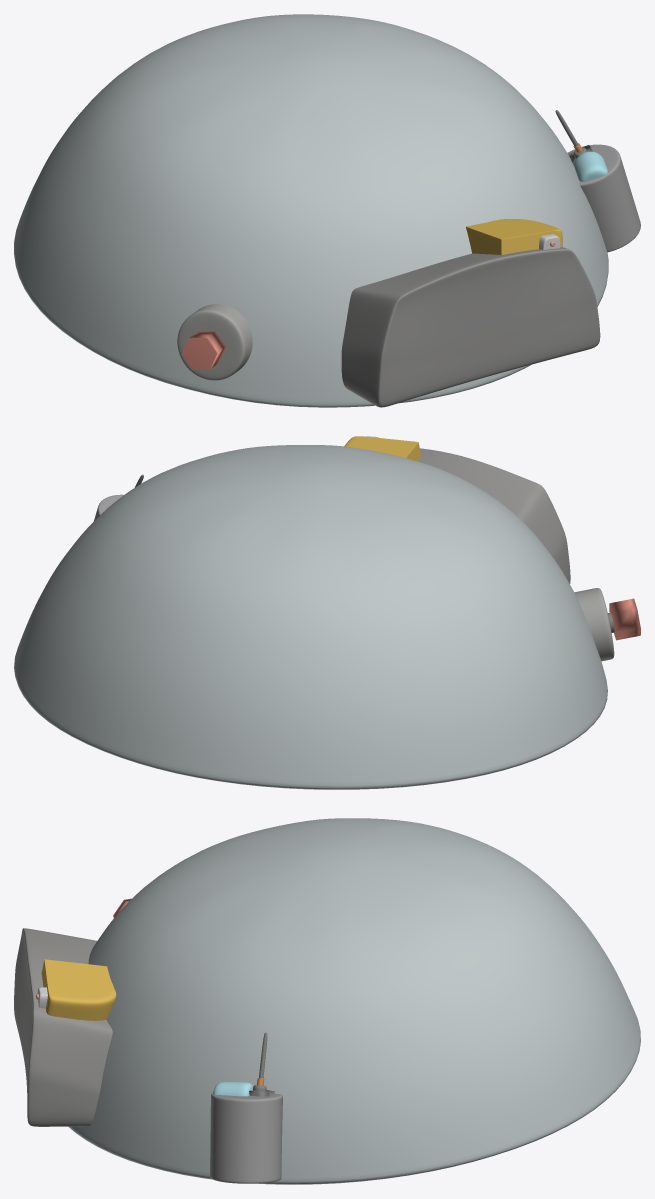
Rendered from puzz_head_v2.gltf.
3 views of the same model, one above another, from view 1: azimuth 30°, elevation 25°; view 2: azimuth 150°, elevation 25°; view 3: azimuth 270°, elevation 25° (orthographic).
Visible parts, largest first — view 1: puzz_v2, puzz_v2.007, puzz_v2.001, puzz_v2.011, puzz_v2.008, puzz_v2.013, puzz_v2.005; view 2: puzz_v2, puzz_v2.007, puzz_v2.011, puzz_v2.008, puzz_v2.013; view 3: puzz_v2, puzz_v2.007, puzz_v2.001, puzz_v2.008, puzz_v2.005.
Part boxes in pixels (<box>): puzz_v2: <box>14,14,608,407</box>; puzz_v2.007: <box>341,247,600,407</box>; puzz_v2.001: <box>567,144,640,252</box>; puzz_v2.011: <box>177,304,252,380</box>; puzz_v2.008: <box>466,219,562,255</box>; puzz_v2.013: <box>181,331,225,369</box>; puzz_v2.005: <box>574,151,607,181</box>; puzz_v2: <box>14,445,607,789</box>; puzz_v2.007: <box>418,448,570,583</box>; puzz_v2.011: <box>574,588,614,661</box>; puzz_v2.008: <box>344,436,421,461</box>; puzz_v2.013: <box>609,598,640,640</box>; puzz_v2: <box>68,818,640,1184</box>; puzz_v2.007: <box>14,928,112,1126</box>; puzz_v2.001: <box>210,1093,282,1183</box>; puzz_v2.008: <box>41,959,116,1020</box>; puzz_v2.005: <box>213,1081,253,1096</box>.
Bounding box in the file's own units: 36.95 × 15.12 × 37.51.
